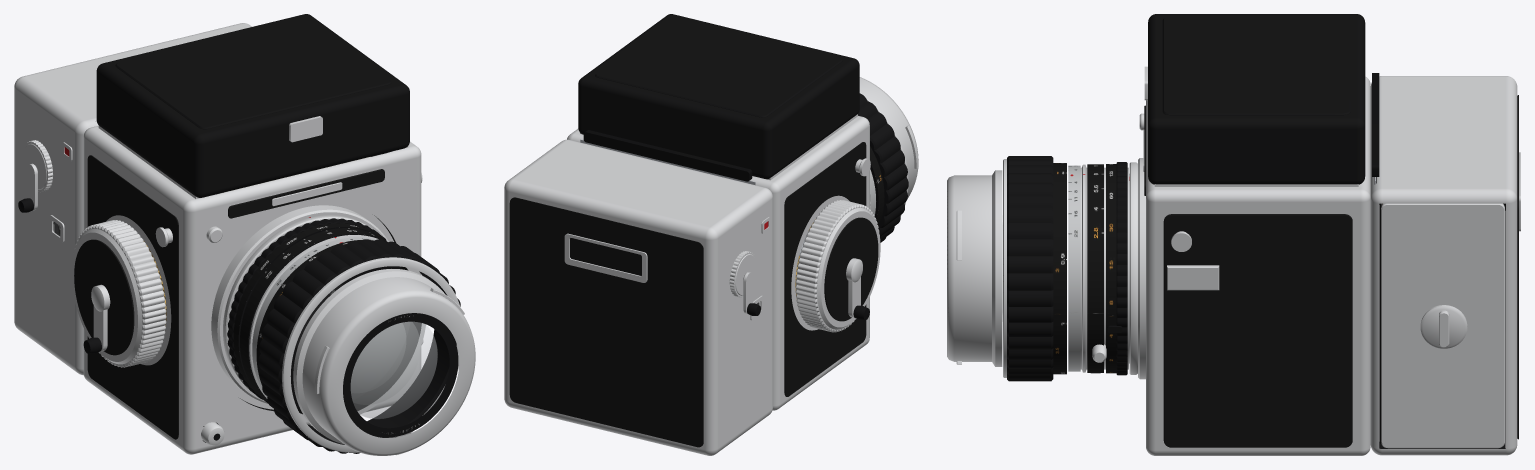
File: reflex-camera.glb
The picture shows the model from 3 angles, left to right: view 1: azimuth 30°, elevation 25°; view 2: azimuth 150°, elevation 25°; view 3: azimuth 270°, elevation 25°; orthographic projection. The views are drawn at different scales.
Visible parts, largest first — view 1: finder, shell, optics, magazine, focus_ring, knob, front_plate, speed_ring, aperture_ring, magazine_crank, lens; view 2: magazine, finder, shell, knob, focus_ring, dark_slide, optics, magazine_crank; view 3: shell, finder, insert, magazine, optics, focus_ring, speed_ring, aperture_ring, lens, front_plate, dark_slide.
Part boxes in pixels (x1=…): finder: x1=96, y1=14, x2=409, y2=198; shell: x1=83, y1=126, x2=422, y2=454; optics: x1=249, y1=235, x2=475, y2=455; magazine: x1=14, y1=23, x2=251, y2=375; focus_ring: x1=256, y1=239, x2=460, y2=453; knob: x1=71, y1=220, x2=166, y2=367; front_plate: x1=202, y1=200, x2=393, y2=440; speed_ring: x1=227, y1=218, x2=387, y2=402; aperture_ring: x1=240, y1=228, x2=387, y2=400; magazine_crank: x1=18, y1=140, x2=52, y2=212; lens: x1=223, y1=215, x2=372, y2=390; magazine: x1=504, y1=139, x2=772, y2=455; finder: x1=578, y1=14, x2=859, y2=180; shell: x1=567, y1=116, x2=870, y2=410; knob: x1=795, y1=200, x2=880, y2=332; focus_ring: x1=858, y1=92, x2=908, y2=242; dark_slide: x1=580, y1=130, x2=755, y2=185; optics: x1=859, y1=77, x2=918, y2=215; magazine_crank: x1=729, y1=251, x2=760, y2=315; shell: x1=1139, y1=76, x2=1370, y2=455; finder: x1=1144, y1=14, x2=1365, y2=186; insert: x1=1381, y1=203, x2=1504, y2=448; magazine: x1=1370, y1=76, x2=1520, y2=455; optics: x1=947, y1=164, x2=1128, y2=372; focus_ring: x1=1003, y1=156, x2=1066, y2=381; speed_ring: x1=1106, y1=162, x2=1127, y2=375; aperture_ring: x1=1087, y1=164, x2=1103, y2=373; lens: x1=1129, y1=162, x2=1137, y2=374; front_plate: x1=1138, y1=158, x2=1145, y2=379; dark_slide: x1=1372, y1=73, x2=1379, y2=184.
Bounding box in the file's own units: 0.1093 × 0.1144 × 0.1761.
Materials: 31 (8 with a texture image).
